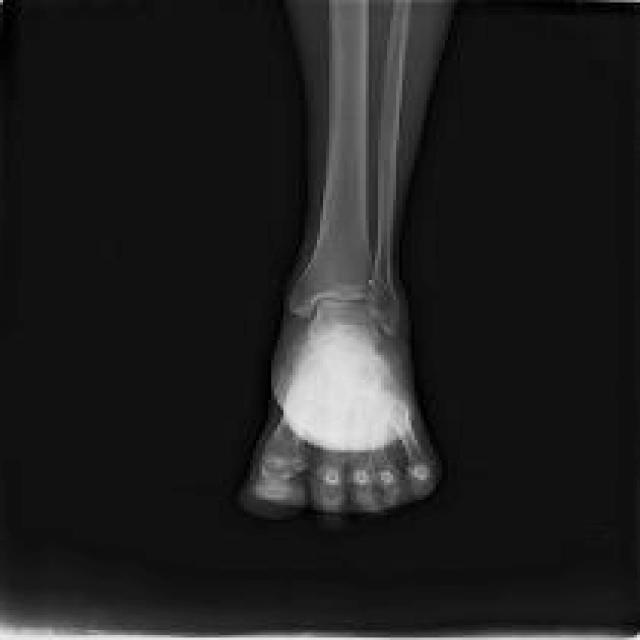normal: (252, 0, 426, 521)
